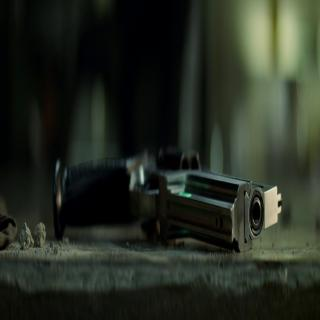gun: (46, 99, 286, 257)
